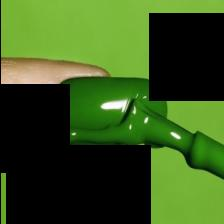green: (0, 1, 224, 144), (49, 78, 224, 180), (0, 145, 224, 224), (51, 78, 166, 129)
